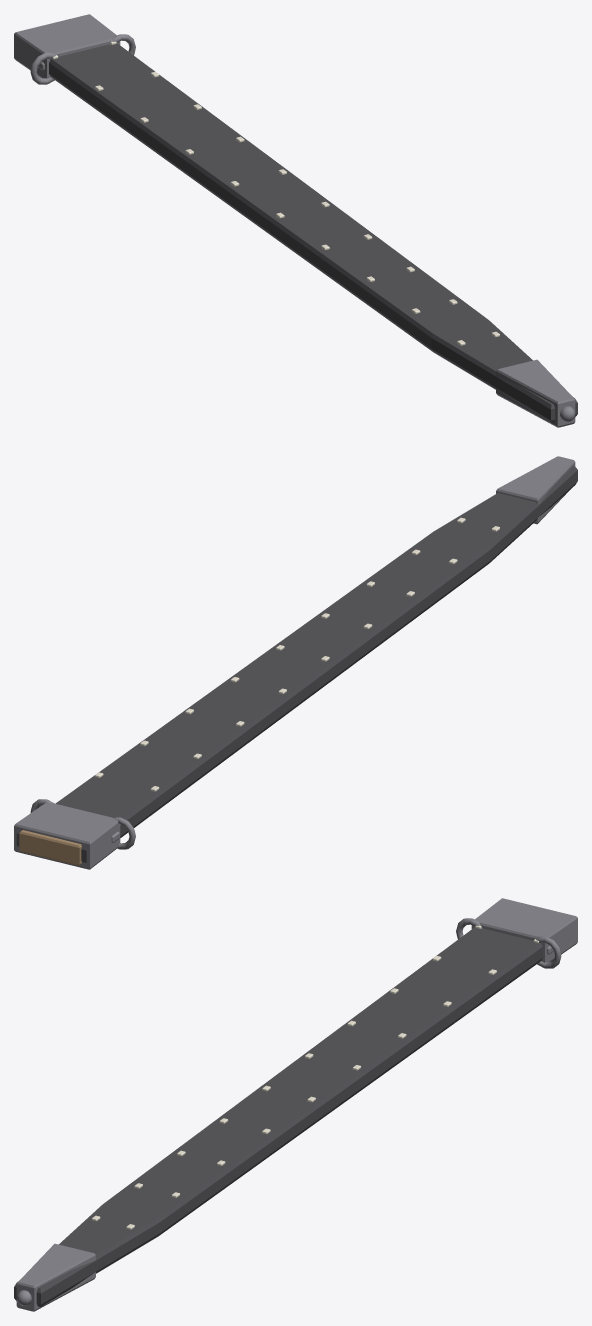
The model's file is longsword-scabbard.glb.
The picture shows the model from 3 angles, top to bottom: view 1: azimuth 30°, elevation 25°; view 2: azimuth 150°, elevation 25°; view 3: azimuth 330°, elevation 25°; orthographic projection.
Visible parts, largest first — view 1: longsword-scabbard; view 2: longsword-scabbard; view 3: longsword-scabbard.
Part boxes in pixels (<box>): longsword-scabbard: <box>14,14,577,427</box>; longsword-scabbard: <box>14,456,577,869</box>; longsword-scabbard: <box>14,898,577,1311</box>.
Size of the model in its own units: 0.119 by 0.035 by 1.02.
